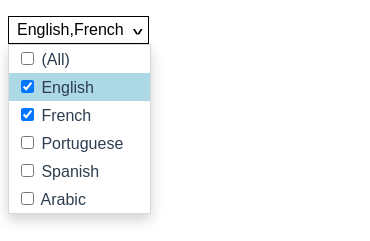
Test: vue-select-a11y.vue › should uncheck all options when all is unchecked
This screenshot has width=370, height=241.
Click the checkbox labelled "(All)" at (28, 58), box [21,52,34,65]
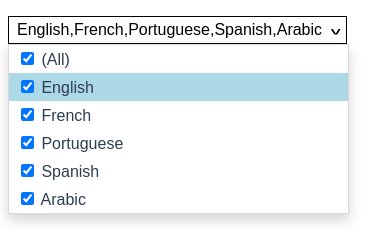
Click the checkbox labelled "(All)" at (28, 58), box [21,52,34,65]
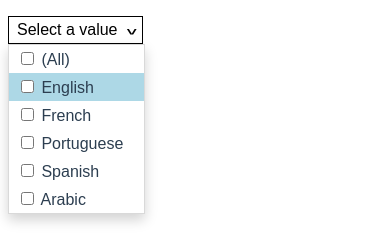
expect the button "Select a value ^" is shown: met, box [8,16,142,44]
